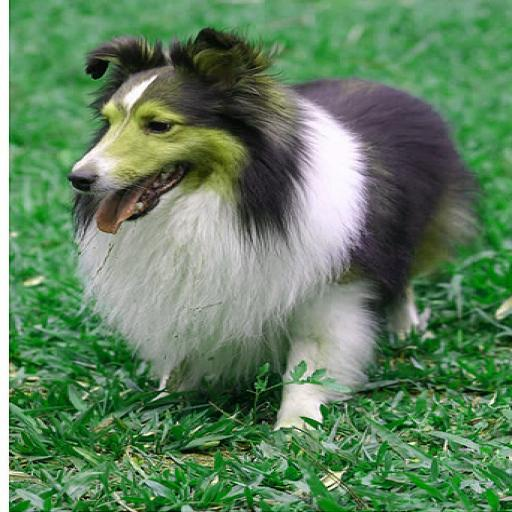dog_face: (52, 42, 261, 230)
